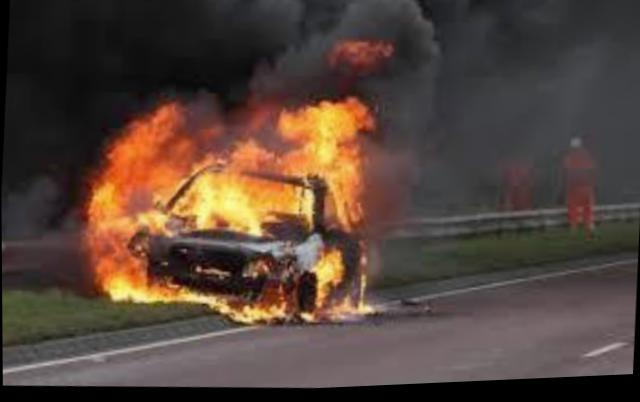fire: (85, 83, 382, 338)
